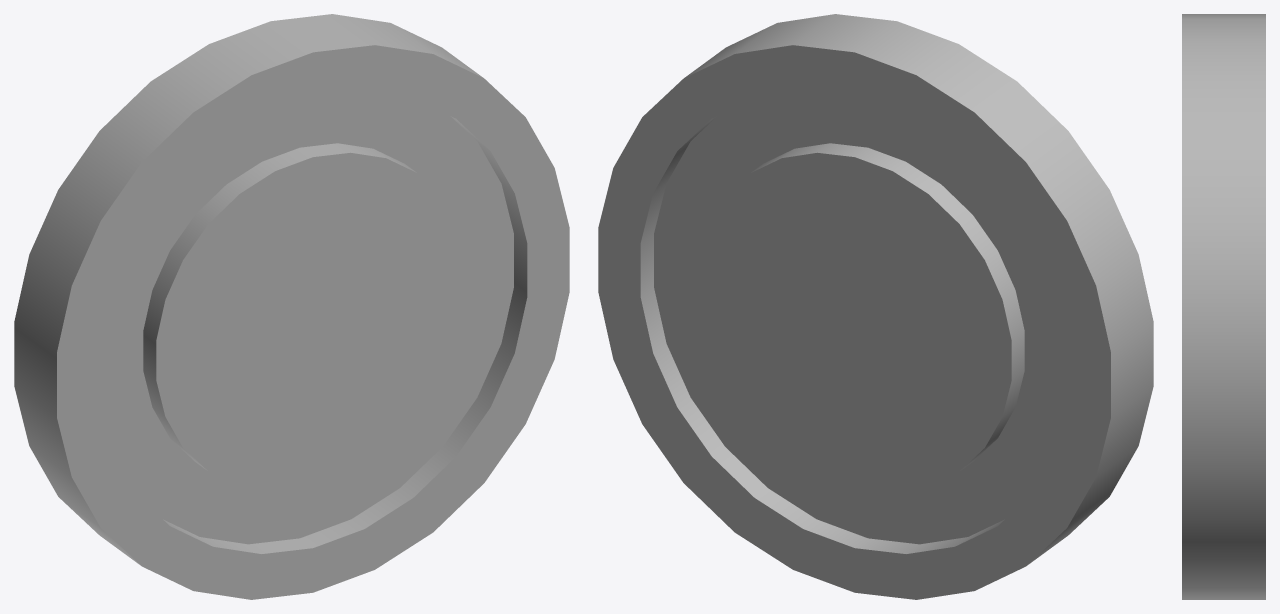
File: Coin_Silver.fbx
The picture shows the model from 3 angles, left to right: view 1: azimuth 30°, elevation 25°; view 2: azimuth 150°, elevation 25°; view 3: azimuth 270°, elevation 25°; orthographic projection.
Visible parts, largest first — view 1: Coin Silver; view 2: Coin Silver; view 3: Coin Silver.
Boxes of the visible parts, x1,y1,x2,y2 form: Coin Silver: (14,14,569,599); Coin Silver: (598,14,1153,599); Coin Silver: (1182,14,1265,599).
Size of the model in its own units: 58.22 by 58.65 by 8.37.
1 material, 1 textured.
